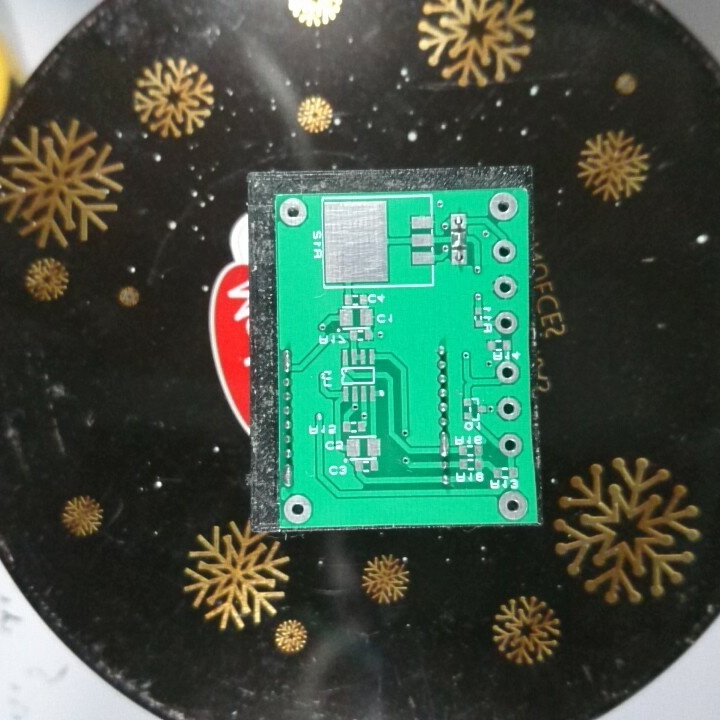F: (276, 195, 312, 229), (496, 487, 531, 520), (486, 190, 520, 222), (495, 395, 529, 427), (280, 492, 315, 523), (490, 272, 519, 303), (496, 431, 525, 460), (490, 237, 520, 265), (493, 356, 521, 386), (492, 307, 520, 335), (447, 210, 469, 232), (448, 246, 469, 267)
P: (436, 428, 453, 459), (280, 344, 295, 375), (282, 460, 296, 492)
